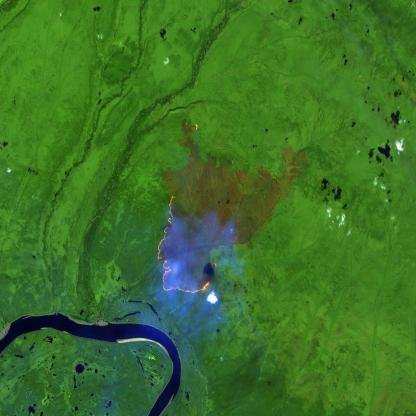fire: (155, 190, 221, 307)
